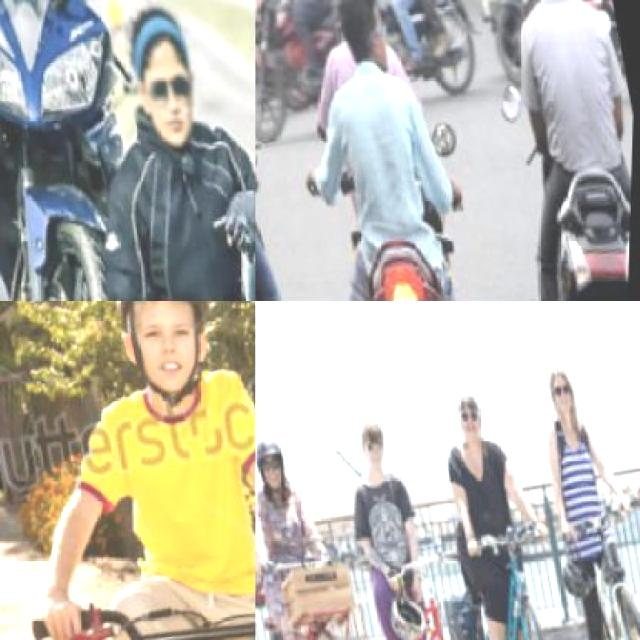With Helmet: (95, 300, 234, 415), (255, 430, 294, 492)
Without Helmet: (109, 0, 220, 154), (331, 0, 394, 63), (352, 405, 392, 469), (448, 382, 487, 444), (544, 357, 582, 415)
